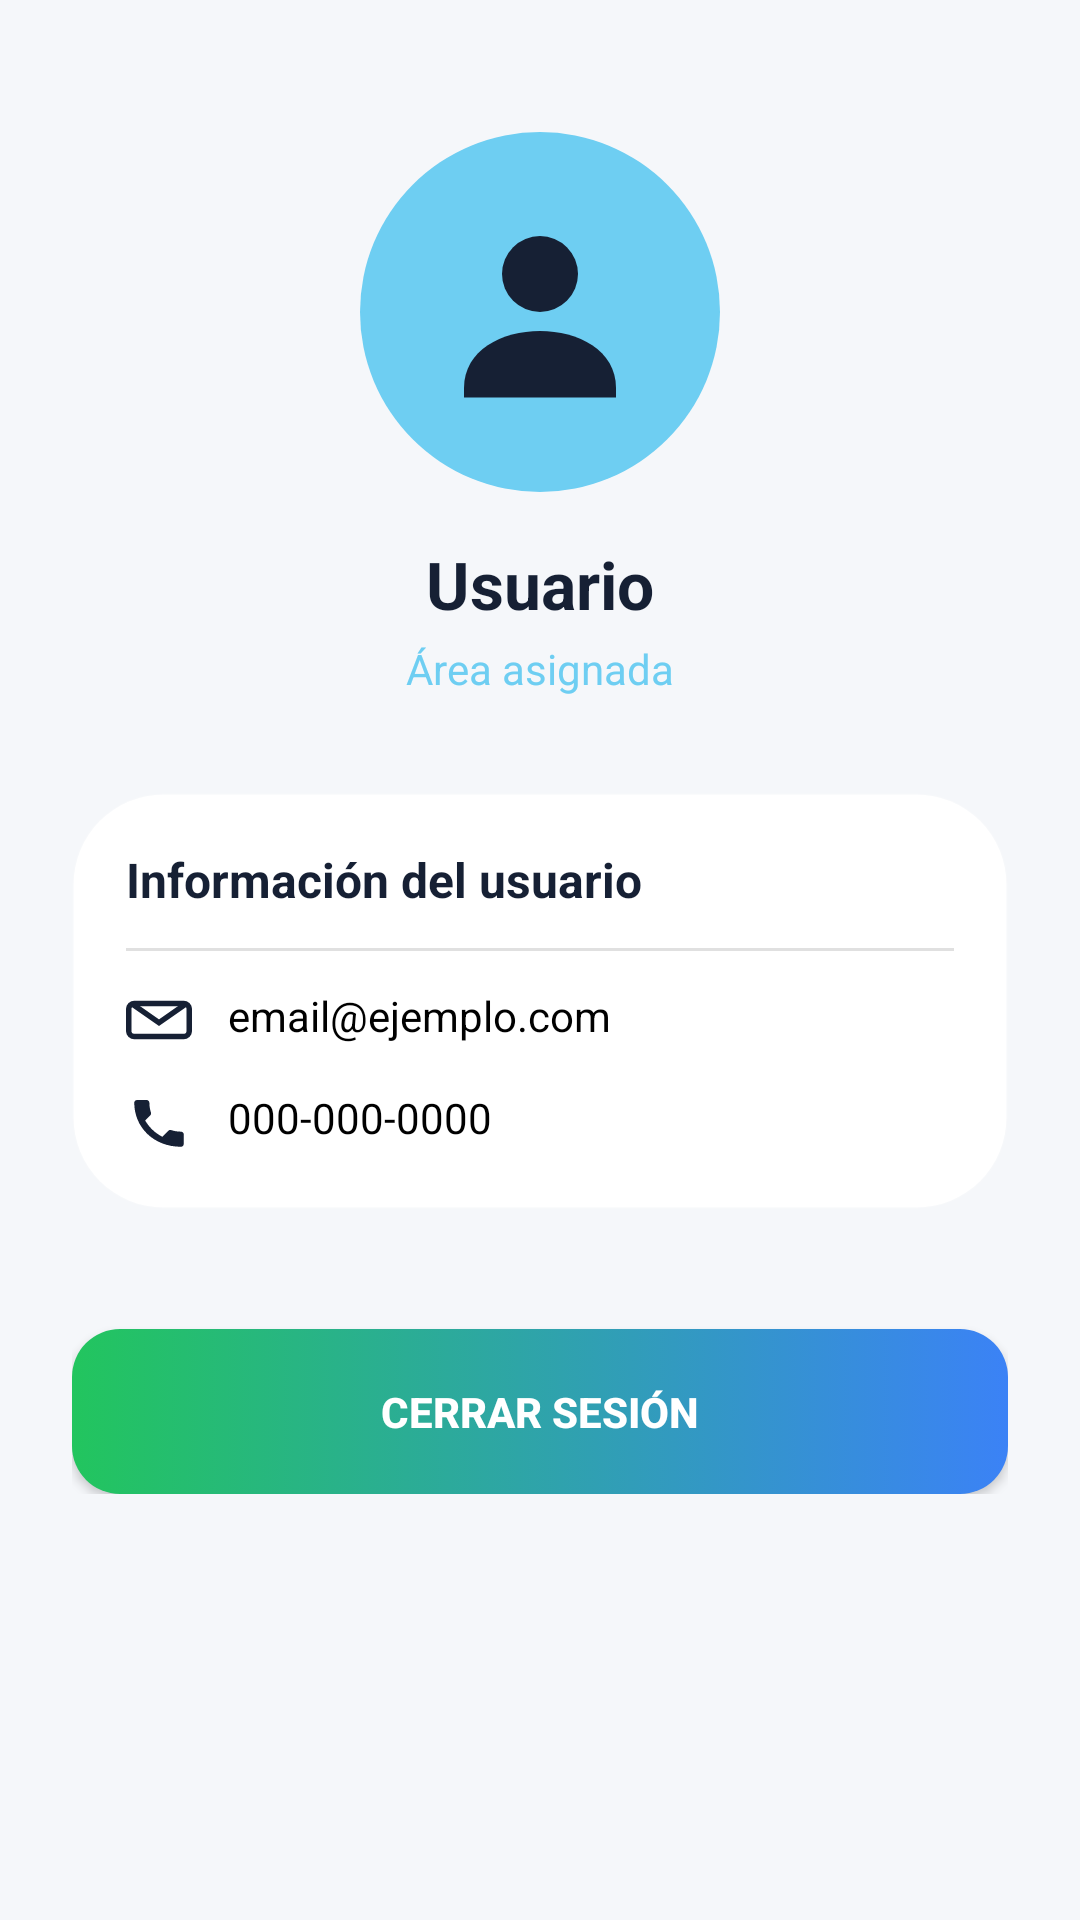

Point at icon controls on the screen. Image size 1080×1920, points as (x=x, y=y).
phone: (x=159, y=1123)
